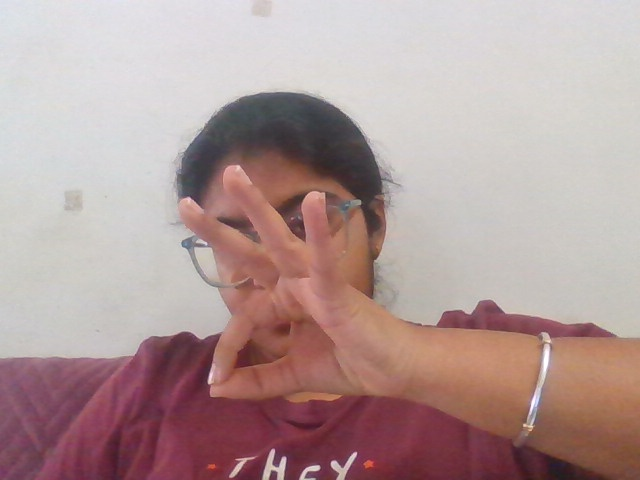Pick: (172, 182, 408, 421)
